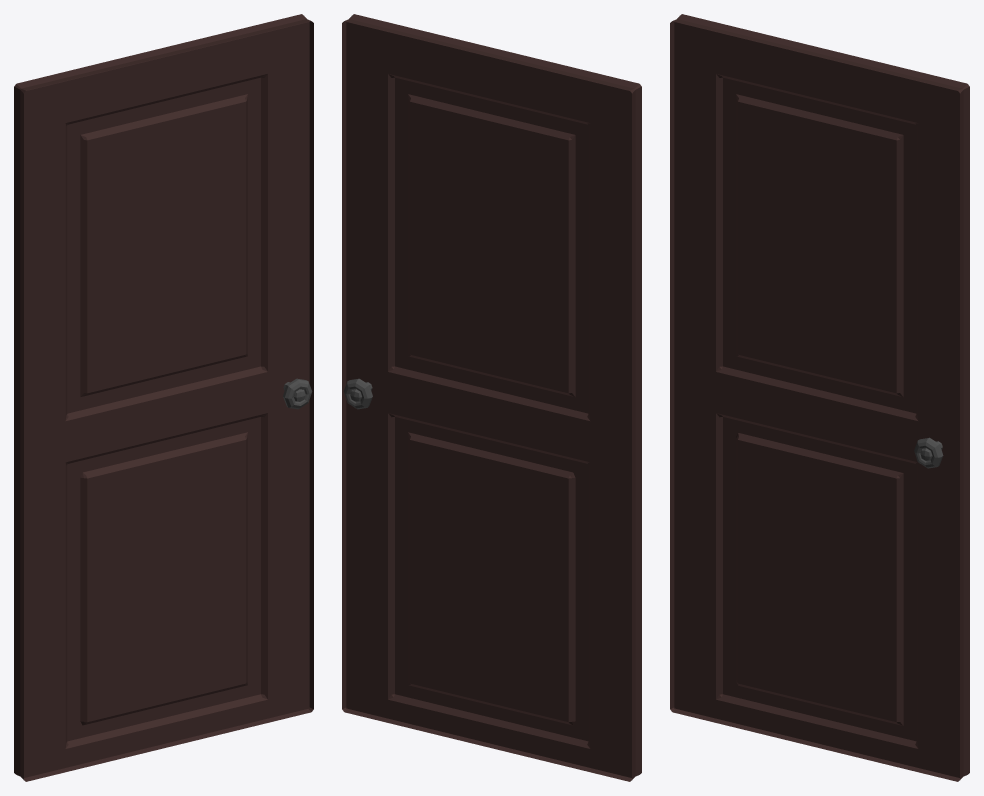
The model's file is door.glb.
3 views of the same model, side by side, from view 1: azimuth 30°, elevation 25°; view 2: azimuth 150°, elevation 25°; view 3: azimuth 330°, elevation 25° (orthographic).
Parts seen in each view (by area): view 1: door; view 2: door; view 3: door.
Boxes of the visible parts, box(x1,y1,x2,y2) form: door: box(14, 14, 313, 781); door: box(342, 14, 641, 781); door: box(670, 14, 969, 781).
Size of the model in its own units: 2.6 by 5.92 by 0.5139.
